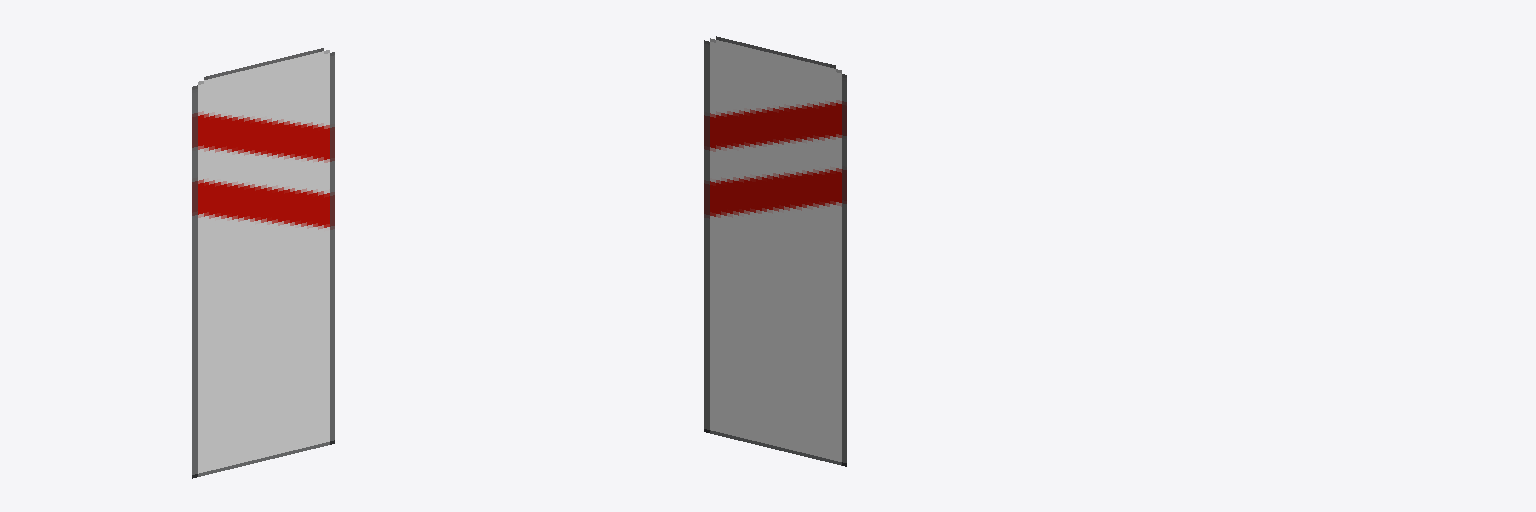
3 renders of one model, left to right at view 1: azimuth 30°, elevation 25°; view 2: azimuth 150°, elevation 25°; view 3: azimuth 270°, elevation 25°, orthographic.
Parts seen in each view (by area): view 1: Cube.001; view 2: Cube.001; view 3: none.
Part boxes in pixels (x1,y1,x2,y2): Cube.001: (192,48,334,478); Cube.001: (704,36,846,466).
Size of the model in its own units: 0.5 by 1.33 by 0.095.
Materials: 2 (2 with a texture image).